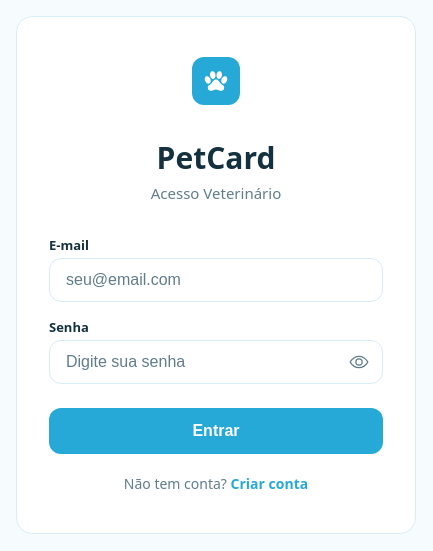
it: VetLoginPage › o olhinho mostra e oculta a senha digitada
The width and height of the screenshot is (433, 551).
Step 1. Type "senha123" into the password field labelled "Senha" → (216, 362), box [49,340,383,384]
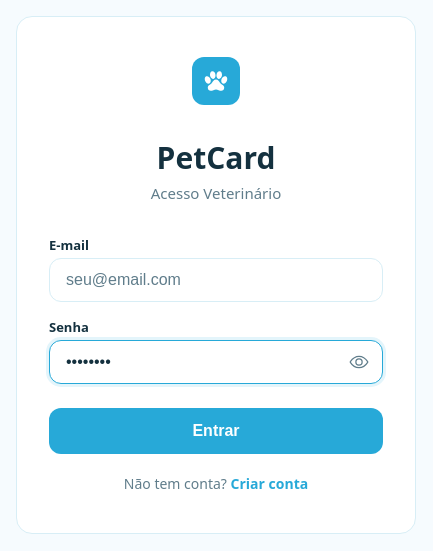
Step 2. Click the button named "Mostrar senha" → (359, 362), box [343,346,375,378]
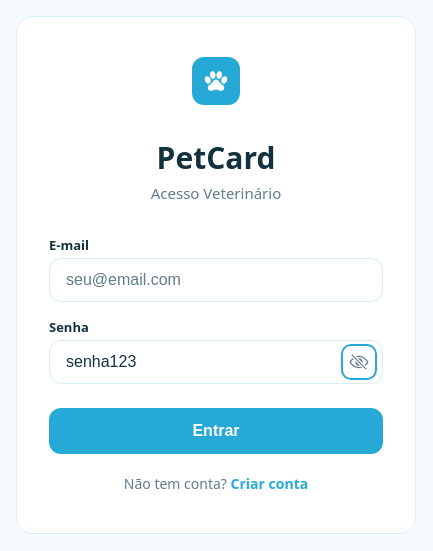
Expected: the field labelled "Senha" shows its text, [49,340,383,384]
Step 3. Click the button named "Ocultar senha" → (359, 362), box [343,346,375,378]
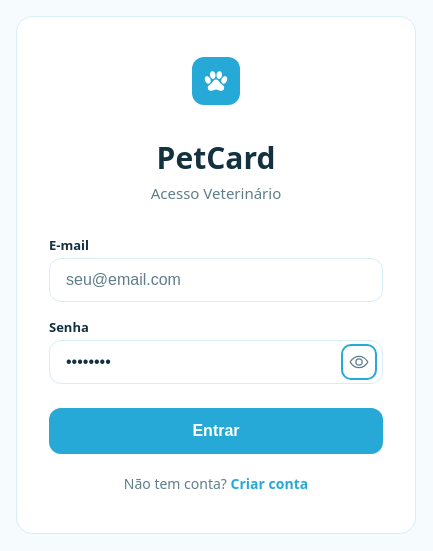
Expected: the password field labelled "Senha" hides its text, [49,340,383,384]
